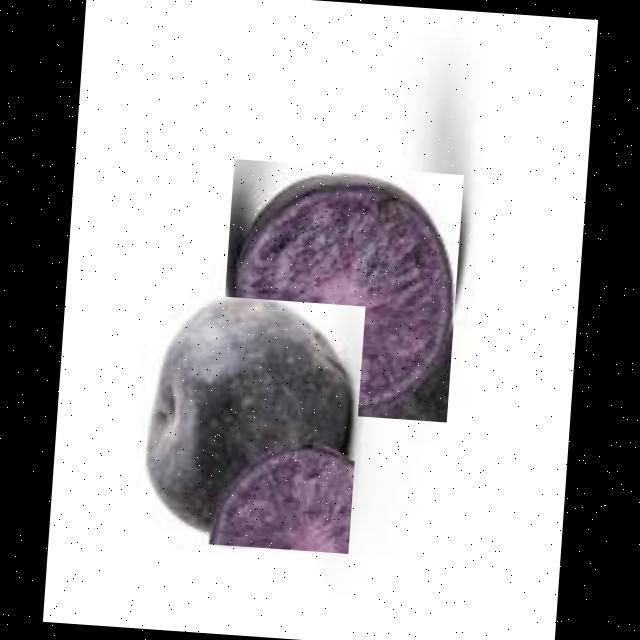Defected potato: (216, 158, 464, 421), (132, 290, 366, 552)
